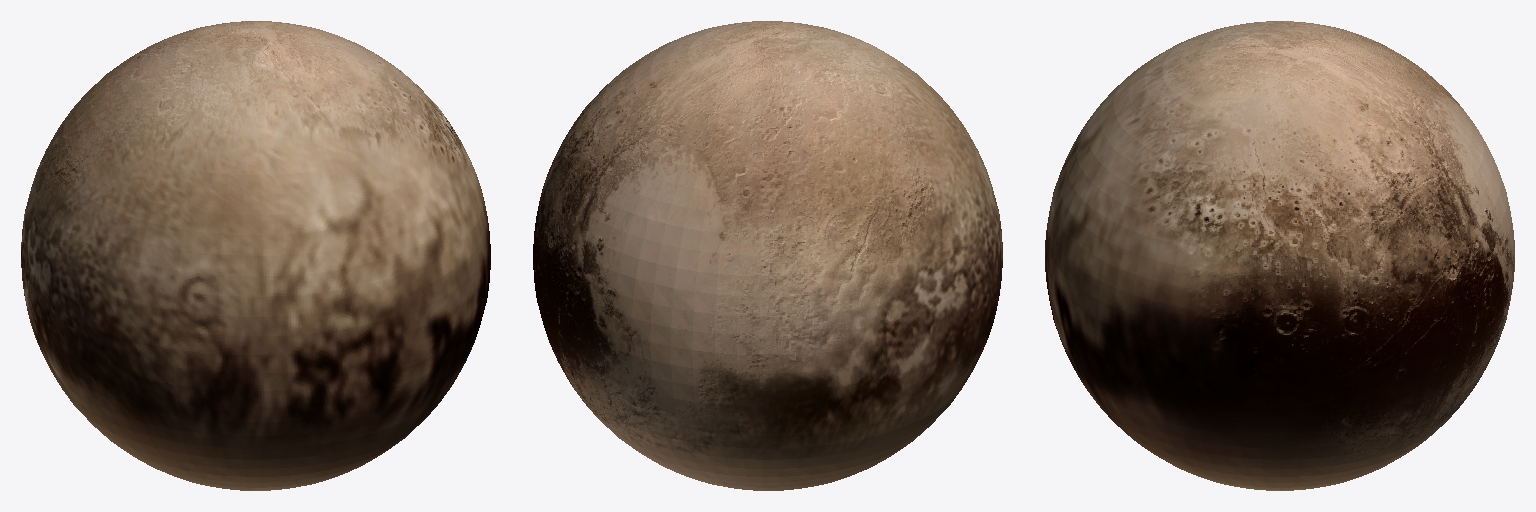
The picture shows the model from 3 angles: view 1: azimuth 30°, elevation 25°; view 2: azimuth 150°, elevation 25°; view 3: azimuth 270°, elevation 25°; orthographic projection.
Visible parts, largest first — view 1: Sphere; view 2: Sphere; view 3: Sphere.
Boxes of the visible parts, x1,y1,x2,y2 form: Sphere: [21, 21, 490, 490]; Sphere: [533, 21, 1002, 490]; Sphere: [1045, 21, 1514, 490].
Bounding box in the file's own units: 3.73 × 3.73 × 3.73.
1 materials, 1 textured.